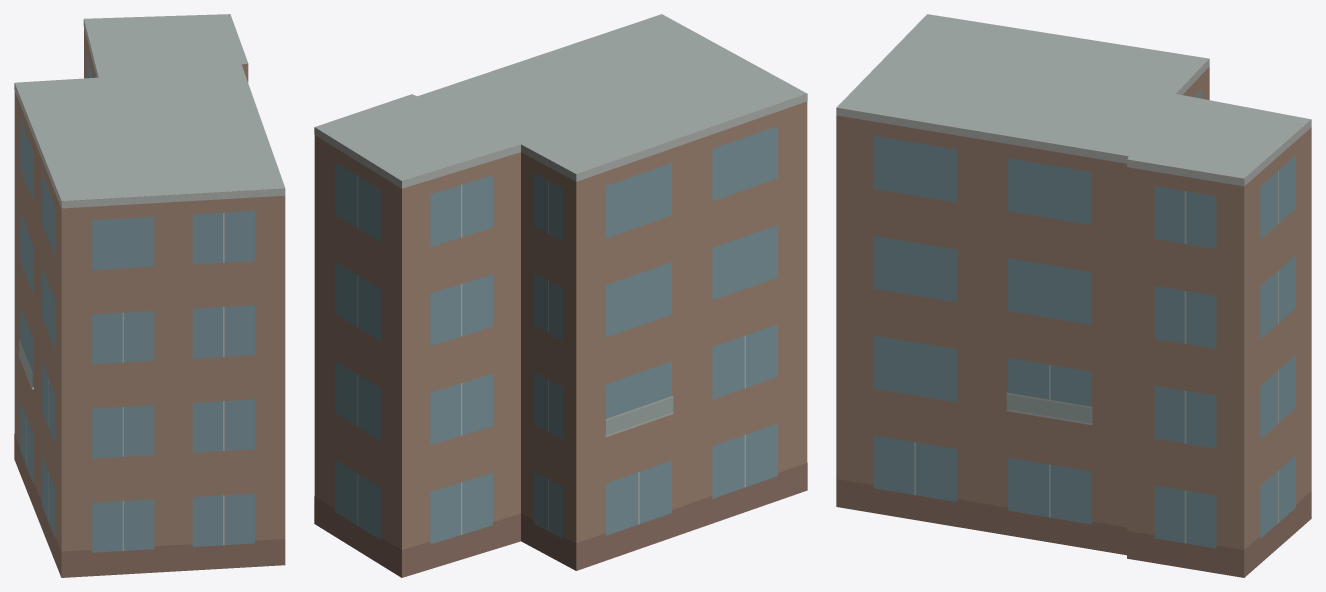
Rendered from survey-upis-32725286.glb.
The picture shows the model from 3 angles, left to right: view 1: azimuth 30°, elevation 25°; view 2: azimuth 150°, elevation 25°; view 3: azimuth 270°, elevation 25°; orthographic projection. The views are drawn at different scales.
Parts seen in each view (by area): view 1: survey-upis-32725286.tmp; view 2: survey-upis-32725286.tmp; view 3: survey-upis-32725286.tmp.
Boxes of the visible parts, x1,y1,x2,y2 form: survey-upis-32725286.tmp: (14, 14, 285, 577); survey-upis-32725286.tmp: (314, 14, 807, 577); survey-upis-32725286.tmp: (836, 14, 1311, 577).
Bounding box in the file's own units: 11.16 × 12.6 × 13.61.
